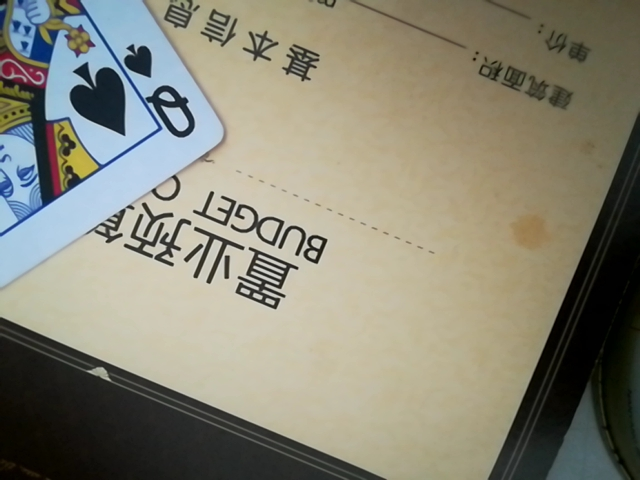ht q: (0, 0, 219, 309)
